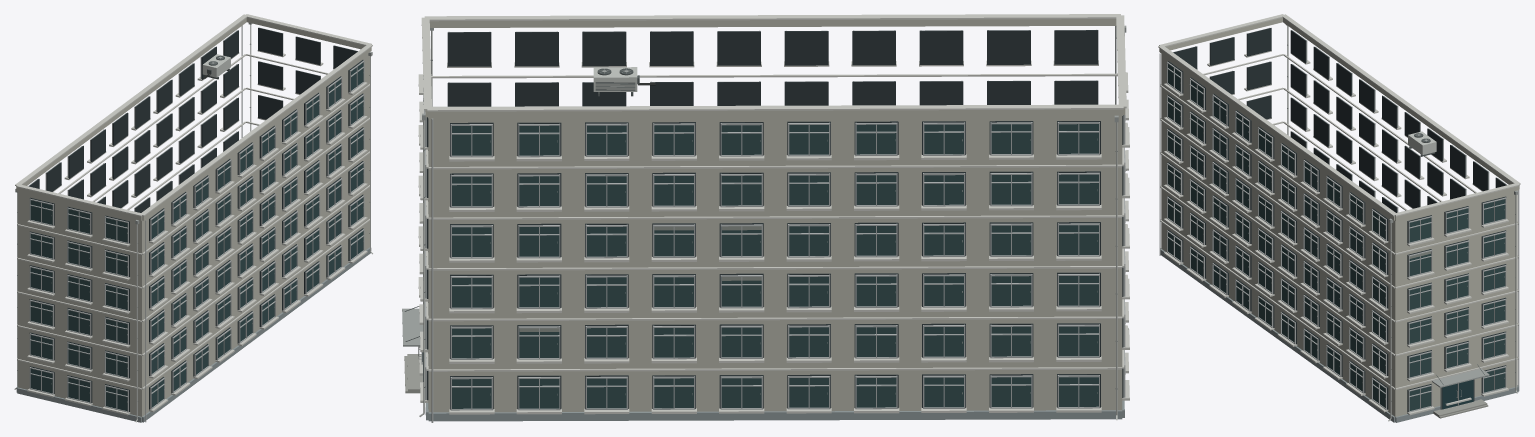
Rendered from osm_way_225265339.glb.
The picture shows the model from 3 angles, left to right: view 1: azimuth 30°, elevation 25°; view 2: azimuth 150°, elevation 25°; view 3: azimuth 270°, elevation 25°; orthographic projection. The views are drawn at different scales.
Visible parts, largest first — view 1: Windows and facade details | osm_way_225265339, Architecture | osm_way_225265339, Roof services | osm_way_225265339, EXTERIOR::osm_way_225265339::rainwater and roof service deta; view 2: Windows and facade details | osm_way_225265339, Architecture | osm_way_225265339, Roof services | osm_way_225265339, EXTERIOR::osm_way_225265339::rainwater and roof service deta, EXTERIOR::osm_way_225265339::inferred entry doors canopy and, EXTERIOR::osm_way_225265339::native pane seals and hardware; view 3: Windows and facade details | osm_way_225265339, Architecture | osm_way_225265339, Roof services | osm_way_225265339, EXTERIOR::osm_way_225265339::inferred entry doors canopy and, EXTERIOR::osm_way_225265339::rainwater and roof service deta.
Part boxes in pixels (x1,y1,x2,y2): Windows and facade details | osm_way_225265339: (27, 25, 367, 422); Architecture | osm_way_225265339: (16, 17, 371, 422); Roof services | osm_way_225265339: (15, 14, 372, 216); EXTERIOR::osm_way_225265339::rainwater and roof service deta: (14, 23, 373, 422); Windows and facade details | osm_way_225265339: (418, 26, 1129, 422); Architecture | osm_way_225265339: (425, 19, 1125, 421); Roof services | osm_way_225265339: (421, 14, 1126, 111); EXTERIOR::osm_way_225265339::rainwater and roof service deta: (419, 25, 1128, 420); EXTERIOR::osm_way_225265339::inferred entry doors canopy and: (402, 306, 423, 393); EXTERIOR::osm_way_225265339::native pane seals and hardware: (490, 139, 1097, 395); Windows and facade details | osm_way_225265339: (1159, 27, 1519, 415); Architecture | osm_way_225265339: (1159, 17, 1519, 422); Roof services | osm_way_225265339: (1158, 14, 1520, 216); EXTERIOR::osm_way_225265339::inferred entry doors canopy and: (1432, 364, 1489, 418); EXTERIOR::osm_way_225265339::rainwater and roof service deta: (1285, 24, 1517, 421).
Bounding box in the file's own units: 41.03 × 20.58 × 31.17.
